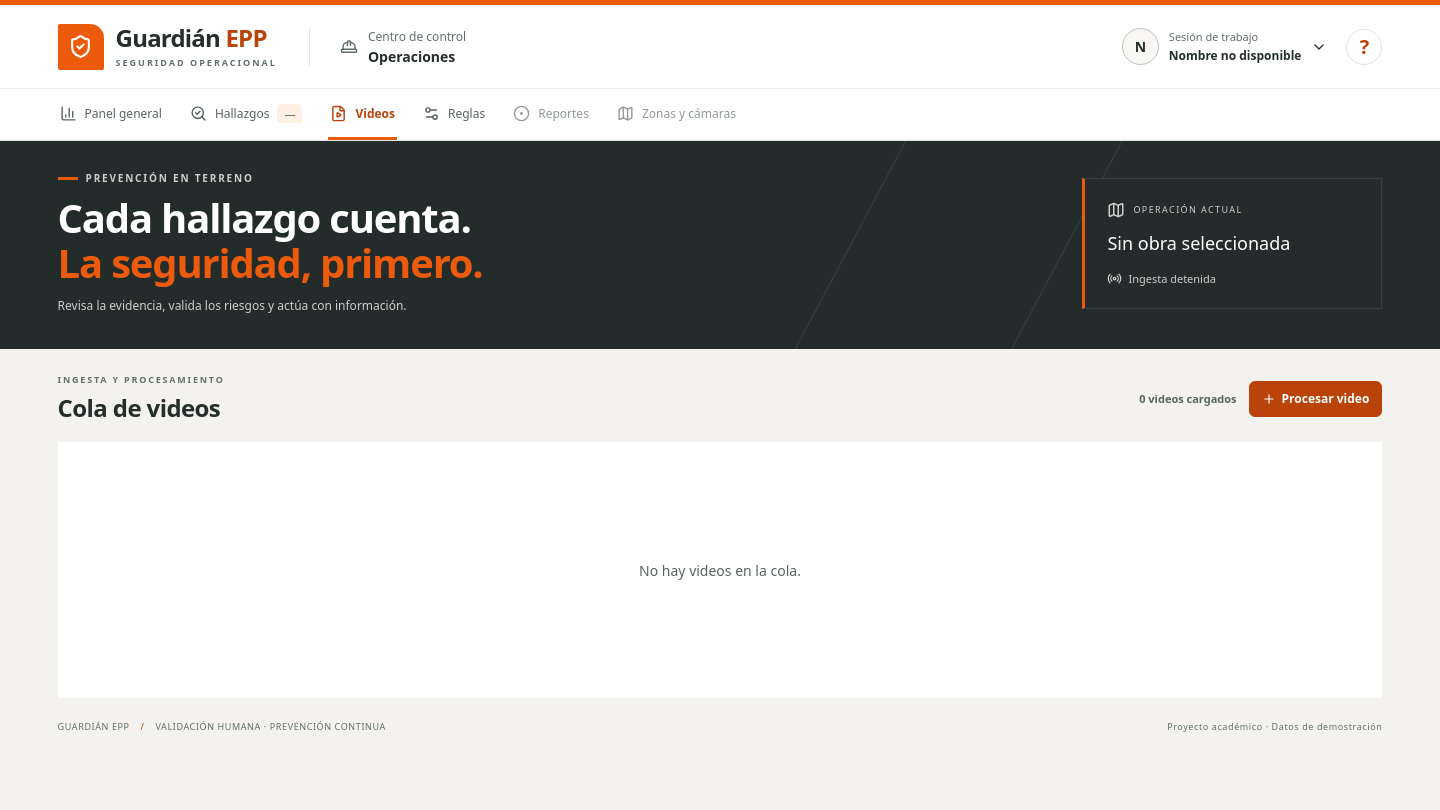
si los catálogos fallan, el diálogo de procesar lo dice
The width and height of the screenshot is (1440, 810).
Click the button "Procesar video".
click(1316, 399)  # box [1249,381,1382,417]
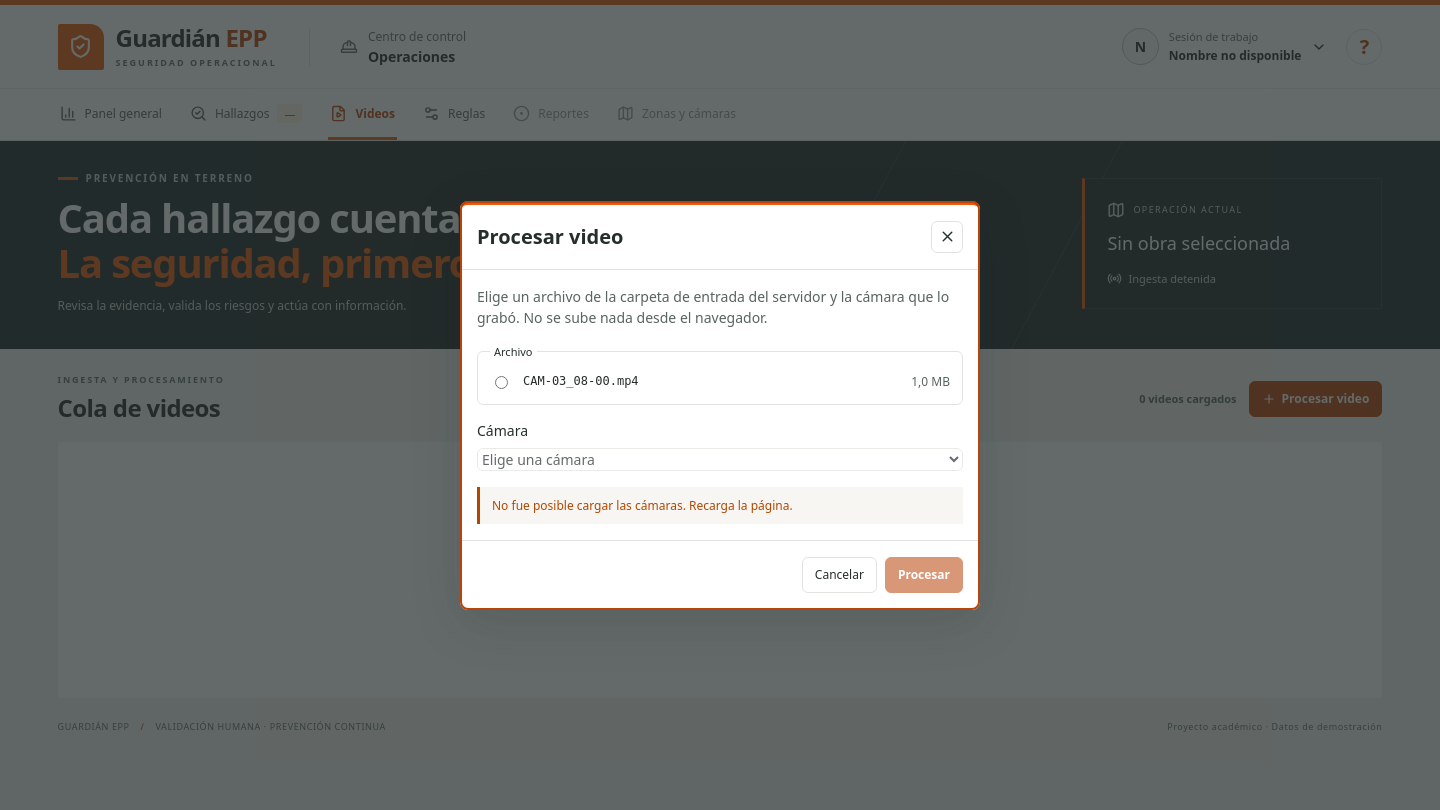
expect the text "No fue posible cargar las cámaras. Recarga la página." is shown: met, box [477,486,963,524]
